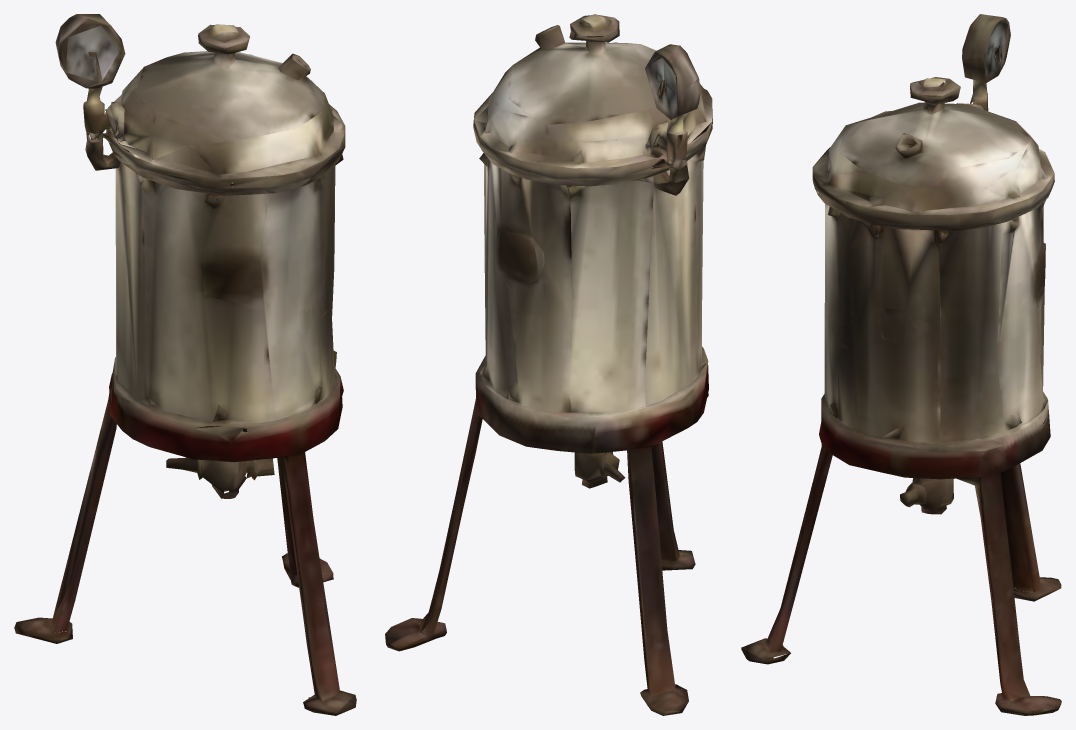
Rendered from autoclave.movil.glb.
3 views of the same model, side by side, from view 1: azimuth 30°, elevation 25°; view 2: azimuth 150°, elevation 25°; view 3: azimuth 270°, elevation 25° (orthographic). The views are drawn at different scales.
Visible parts, largest first — view 1: geometry_0; view 2: geometry_0; view 3: geometry_0.
Boxes of the visible parts, <box> form: geometry_0: <box>14,14,356,715</box>; geometry_0: <box>385,14,712,715</box>; geometry_0: <box>741,14,1061,715</box>.
Size of the model in its own units: 0.5982 by 1.2 by 0.5974.
1 material, 1 textured.
